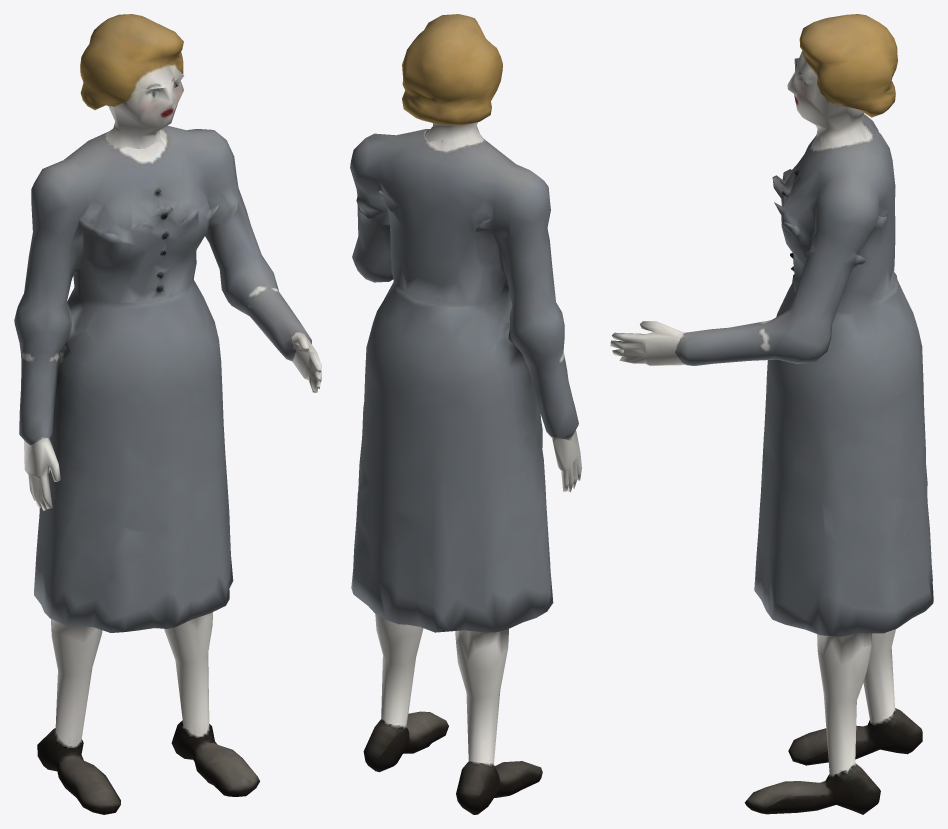
The model's file is mq_woman_dress-low.glb.
3 renders of one model, left to right at view 1: azimuth 30°, elevation 25°; view 2: azimuth 150°, elevation 25°; view 3: azimuth 270°, elevation 25°, orthographic.
Visible parts, largest first — view 1: mq_woman_dress-low, mq_woman_dress_head-low; view 2: mq_woman_dress-low, mq_woman_dress_head-low; view 3: mq_woman_dress-low, mq_woman_dress_head-low.
Part boxes in pixels (left/top/right/bottom): mq_woman_dress-low: left=14, top=125, right=321, bottom=814; mq_woman_dress_head-low: left=80, top=14, right=184, bottom=148; mq_woman_dress-low: left=350, top=129, right=581, bottom=814; mq_woman_dress_head-low: left=402, top=14, right=502, bottom=150; mq_woman_dress-low: left=610, top=114, right=933, bottom=814; mq_woman_dress_head-low: left=787, top=14, right=897, bottom=149.
Bounding box in the file's own units: 0.5607 × 1.74 × 0.6643.
1 material, 1 textured.
